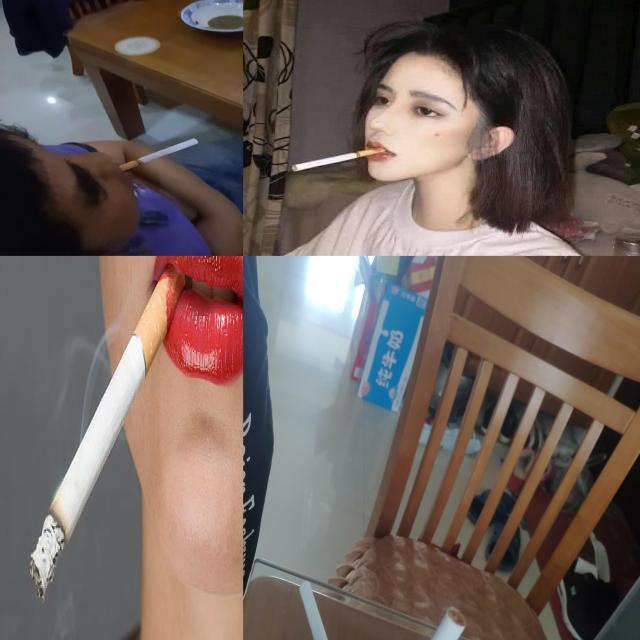cigarette: (29, 266, 201, 600), (368, 604, 468, 640), (298, 579, 351, 640), (119, 137, 201, 172), (292, 148, 386, 172)
